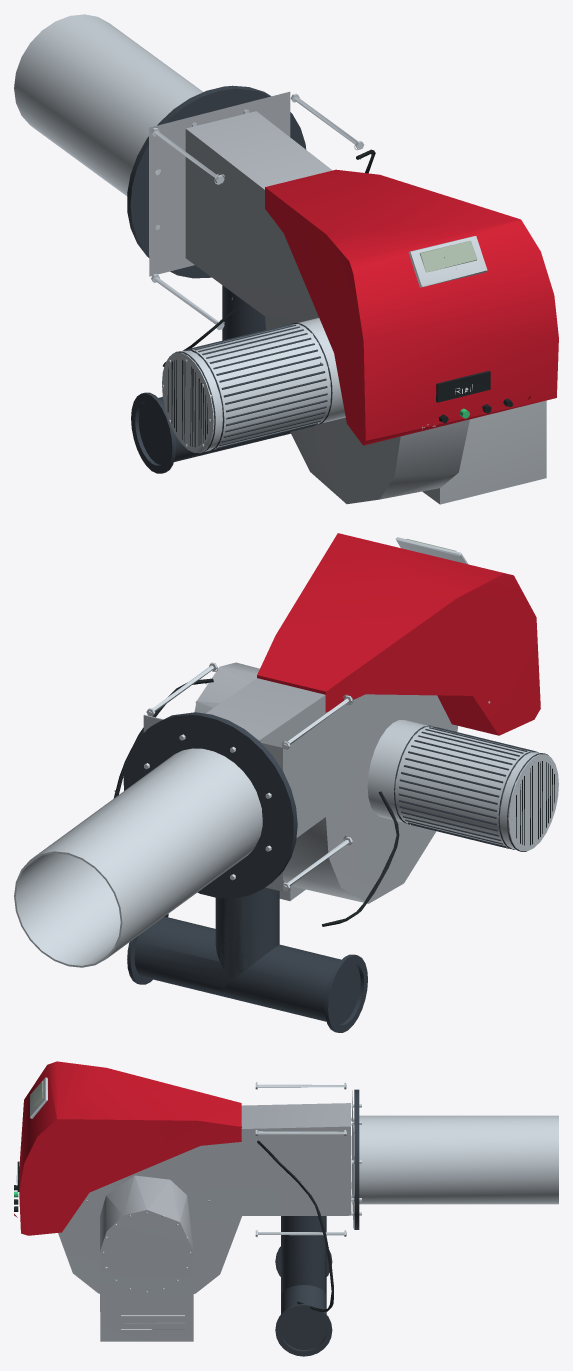
File: burner.glb
The picture shows the model from 3 angles, top to bottom: view 1: azimuth 30°, elevation 25°; view 2: azimuth 150°, elevation 25°; view 3: azimuth 270°, elevation 25°; orthographic projection. The views are drawn at different scales.
Visible parts, largest first — view 1: burner; view 2: burner; view 3: burner.
Boxes of the visible parts, box(x1,y1,x2,y2) form: burner: box(14, 14, 558, 504); burner: box(14, 533, 558, 1032); burner: box(14, 1061, 558, 1356).
Size of the model in its own units: 0.9173 by 0.9052 by 1.92.
